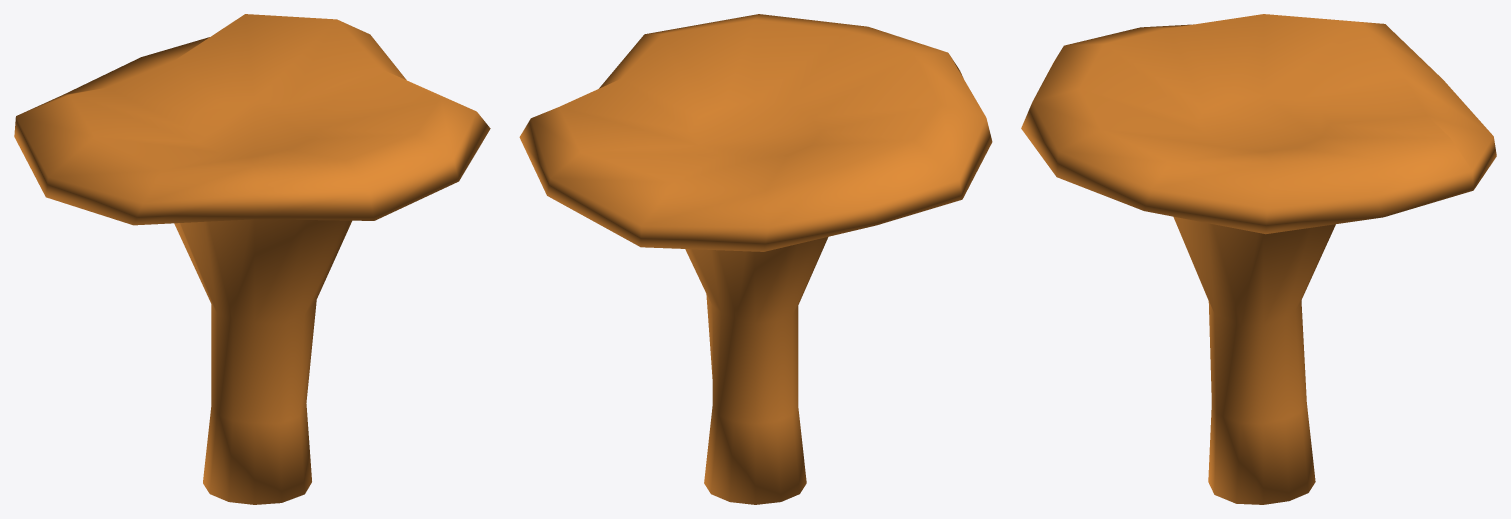
Rendered from Cantharellaceae_big.fbx.
The picture shows the model from 3 angles, left to right: view 1: azimuth 30°, elevation 25°; view 2: azimuth 150°, elevation 25°; view 3: azimuth 270°, elevation 25°; orthographic projection.
Parts seen in each view (by area): view 1: Cantharellaceae_big; view 2: Cantharellaceae_big; view 3: Cantharellaceae_big.
Part boxes in pixels (x1=…): Cantharellaceae_big: x1=14, y1=14, x2=490, y2=504; Cantharellaceae_big: x1=519, y1=14, x2=992, y2=504; Cantharellaceae_big: x1=1021, y1=14, x2=1496, y2=504.
Bounding box in the file's own units: 25.32 × 24.65 × 26.68.
